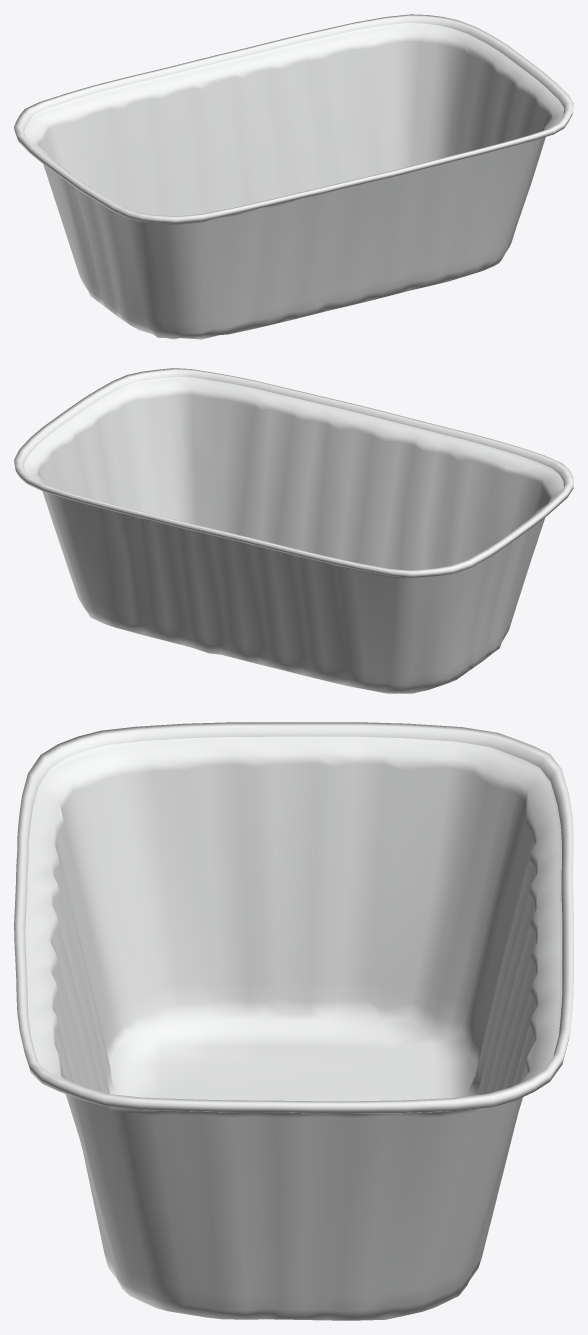
Rendered from aluminum_tray.glb.
3 renders of one model, top to bottom at view 1: azimuth 30°, elevation 25°; view 2: azimuth 150°, elevation 25°; view 3: azimuth 270°, elevation 25°, orthographic. The views are drawn at different scales.
Visible parts, largest first — view 1: tray_lowpoly_Cube.001; view 2: tray_lowpoly_Cube.001; view 3: tray_lowpoly_Cube.001.
Boxes of the visible parts, box(x1,y1,x2,y2) form: tray_lowpoly_Cube.001: box(14, 14, 573, 339); tray_lowpoly_Cube.001: box(14, 368, 573, 693); tray_lowpoly_Cube.001: box(14, 722, 573, 1320).
Size of the model in its own units: 2 by 0.6471 by 1.23.
1 material, 1 textured.
